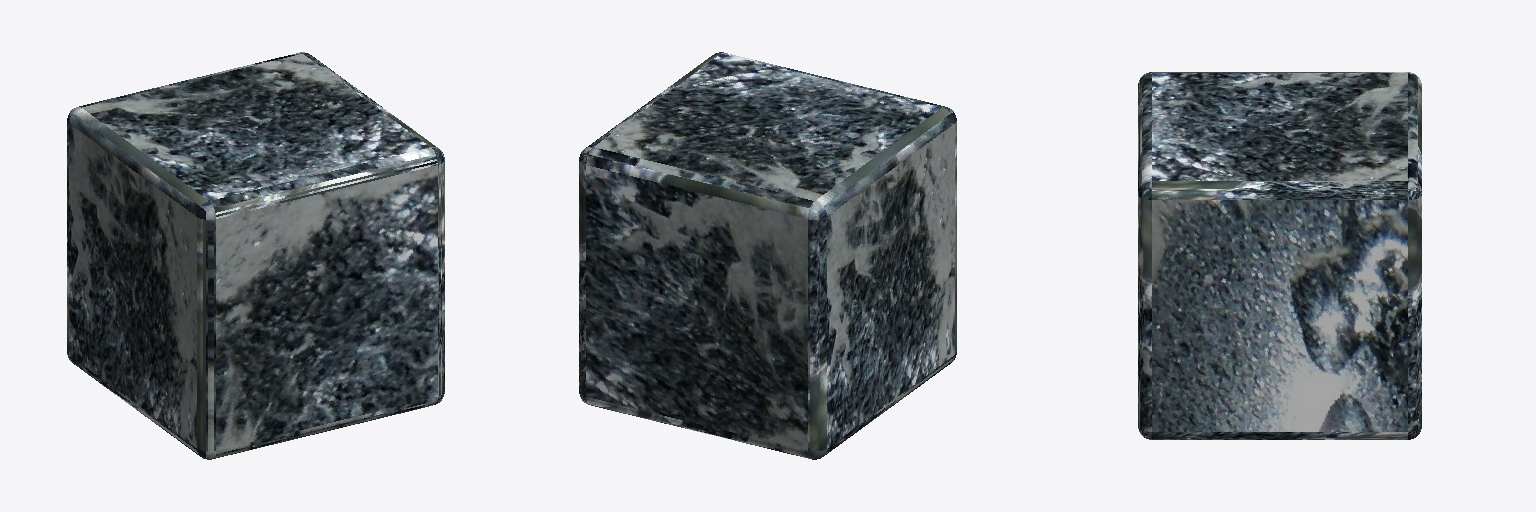
The picture shows the model from 3 angles: view 1: azimuth 30°, elevation 25°; view 2: azimuth 150°, elevation 25°; view 3: azimuth 270°, elevation 25°; orthographic projection.
Parts seen in each view (by area): view 1: Cube; view 2: Cube; view 3: Cube.
Boxes of the visible parts, <box> form: Cube: <box>67,52,444,459</box>; Cube: <box>579,52,956,459</box>; Cube: <box>1138,72,1421,439</box>.
Bounding box in the file's own units: 2 × 2 × 2.
1 materials, 1 textured.